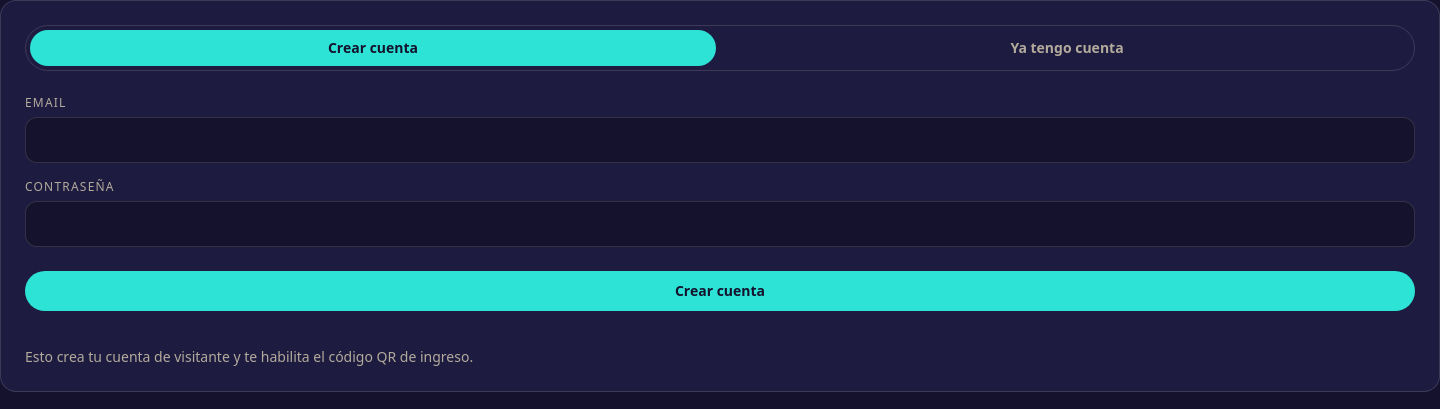
Test case: AccessForm › traduce el error del proveedor a copy accionable en vez de mostrarlo crudo
Click the tab "Ya tengo cuenta": (1067, 48) left=724, top=30, right=1410, bottom=66
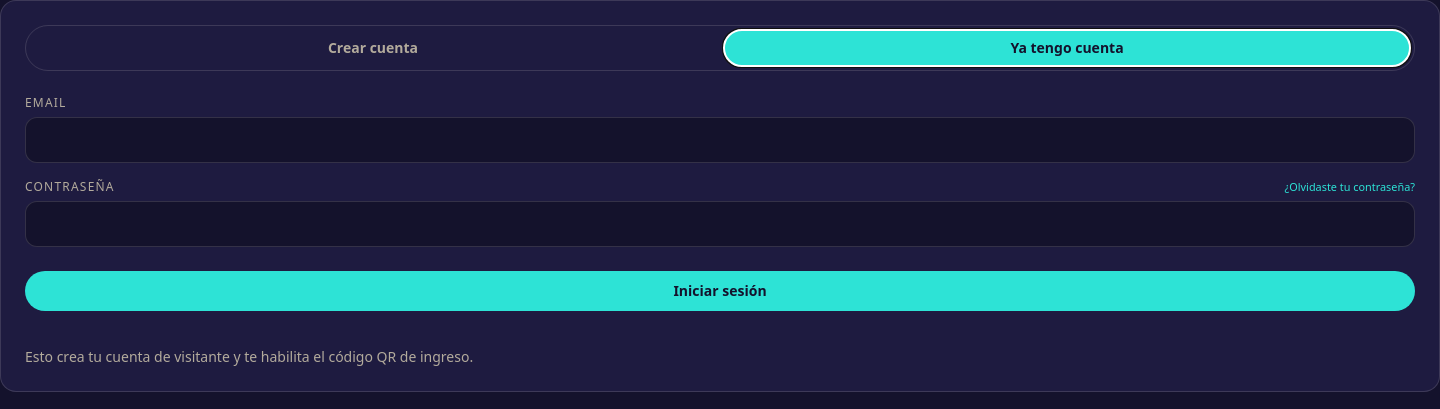
In the field labelled "Email": (720, 140) left=25, top=117, right=1415, bottom=163, type "visitante@example.com"
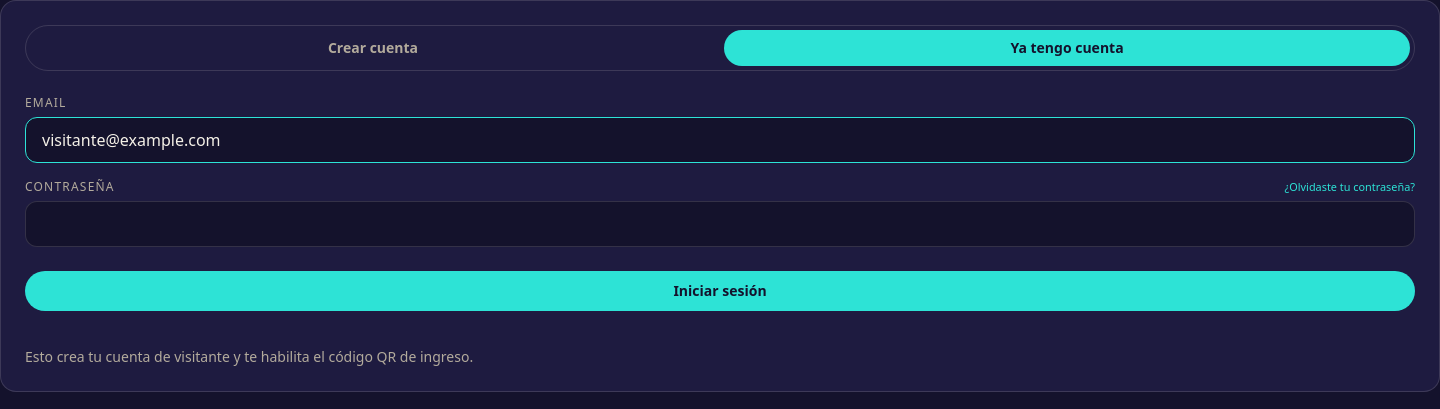
In the password field labelled "Contraseña": (720, 224) left=25, top=201, right=1415, bottom=247, type "mal-password"
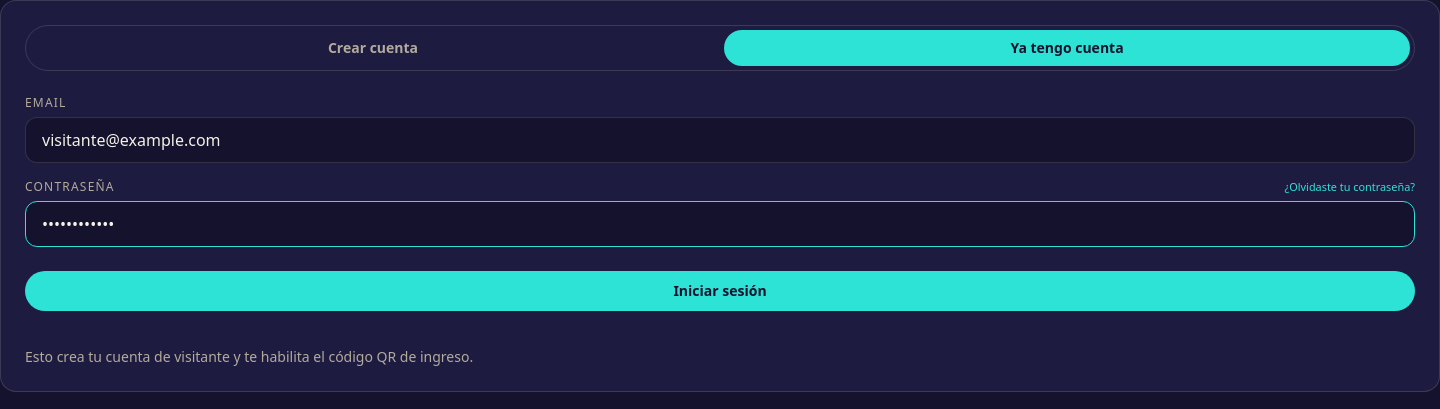
Click the button "Iniciar sesión": (720, 291) left=25, top=271, right=1415, bottom=311
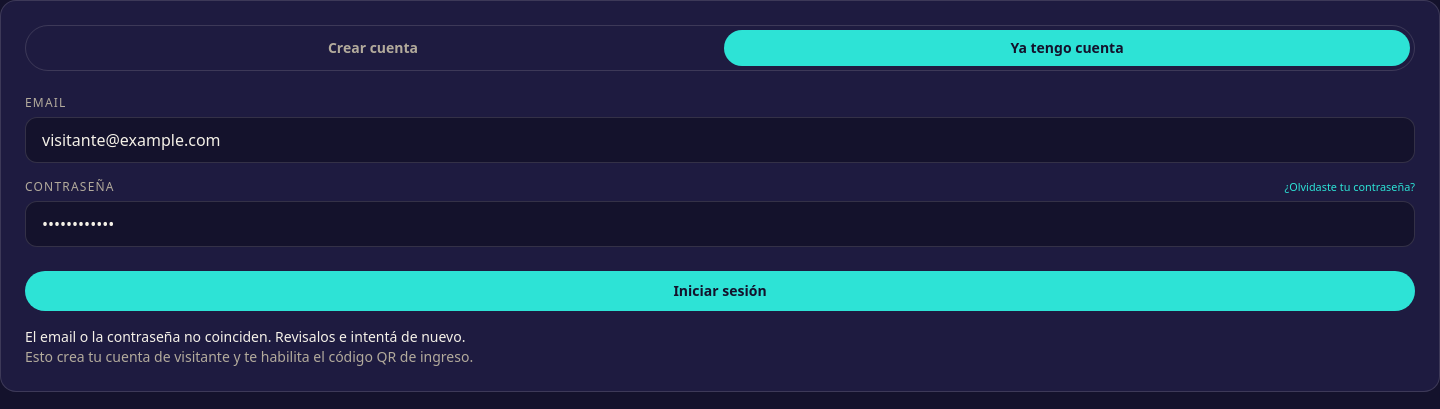
Expected: the text "El email o la contraseña no coinciden. Revisalos e intentá de nuevo." is shown, left=25, top=327, right=466, bottom=346
